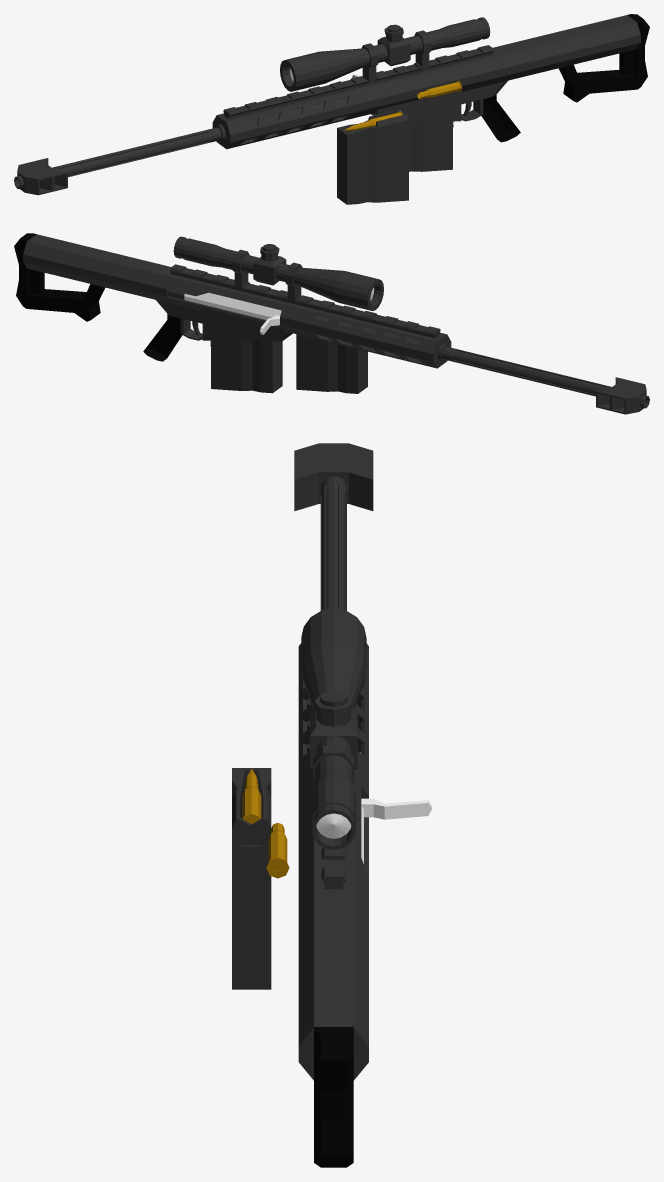
The model's file is barrett_m82.glb.
3 views of the same model, one above another, from view 1: azimuth 30°, elevation 25°; view 2: azimuth 150°, elevation 25°; view 3: azimuth 270°, elevation 25° (orthographic). The views are drawn at different scales.
Visible parts, largest first — view 1: Cube_0, Cube.001_5, scope_3, Cube.007_2, Cylinder.002_4; view 2: Cube_0, scope_3, Cube.007_2, Cube.001_5, Cube.005_1; view 3: Cube_0, scope_3, Cube.001_5, Cube.005_1.
Boxes of the visible parts, box(x1,y1,x2,y2) form: Cube_0: box(14, 14, 649, 195); Cube.001_5: box(337, 109, 408, 204); scope_3: box(280, 17, 490, 91); Cube.007_2: box(409, 121, 452, 171); Cylinder.002_4: box(417, 81, 461, 98); Cube_0: box(14, 233, 649, 414); scope_3: box(173, 236, 383, 310); Cube.007_2: box(211, 340, 282, 393); Cube.001_5: box(296, 334, 367, 393); Cube.005_1: box(184, 292, 281, 334); Cube_0: box(294, 443, 373, 1167); scope_3: box(301, 608, 366, 849); Cube.001_5: box(232, 768, 271, 989); Cube.005_1: box(361, 798, 431, 863).
Size of the model in its own units: 15.46 by 3.56 by 2.13.
